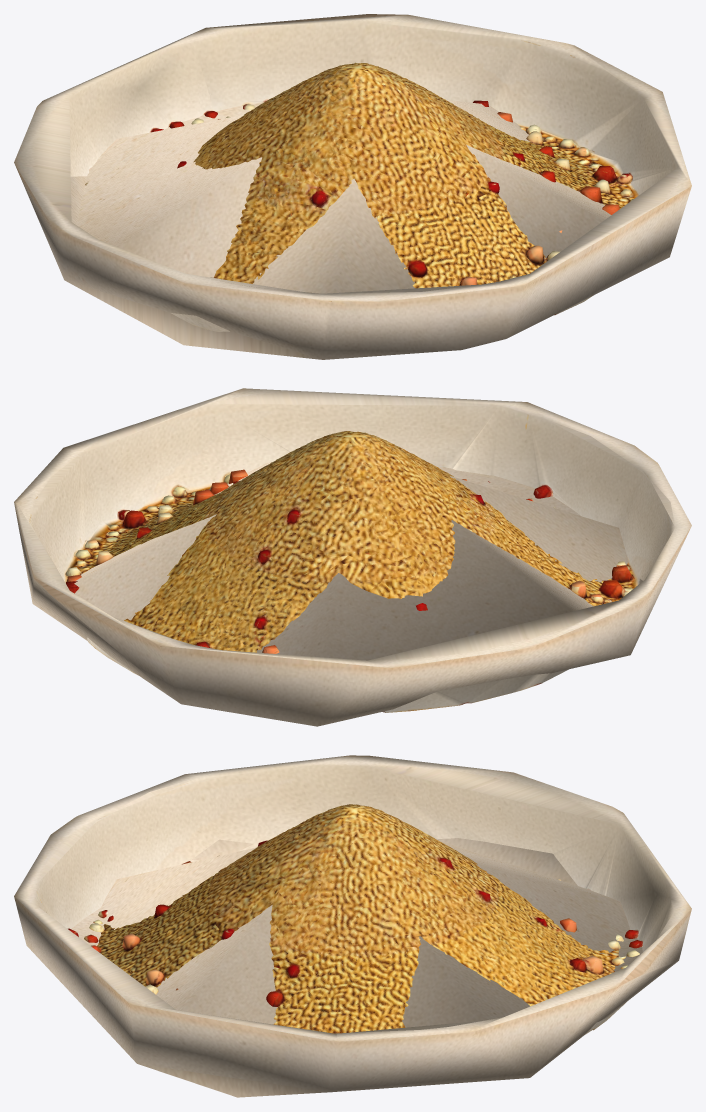
File: skewer-cumin.glb
3 views of the same model, one above another, from view 1: azimuth 30°, elevation 25°; view 2: azimuth 150°, elevation 25°; view 3: azimuth 270°, elevation 25° (orthographic).
Visible parts, largest first — view 1: mesh; view 2: mesh; view 3: mesh.
Boxes of the visible parts, x1,y1,x2,y2 form: mesh: [14, 14, 691, 359]; mesh: [14, 388, 691, 726]; mesh: [14, 755, 691, 1097].
Size of the model in its own units: 1.98 by 0.5738 by 1.98.
1 material, 1 textured.
